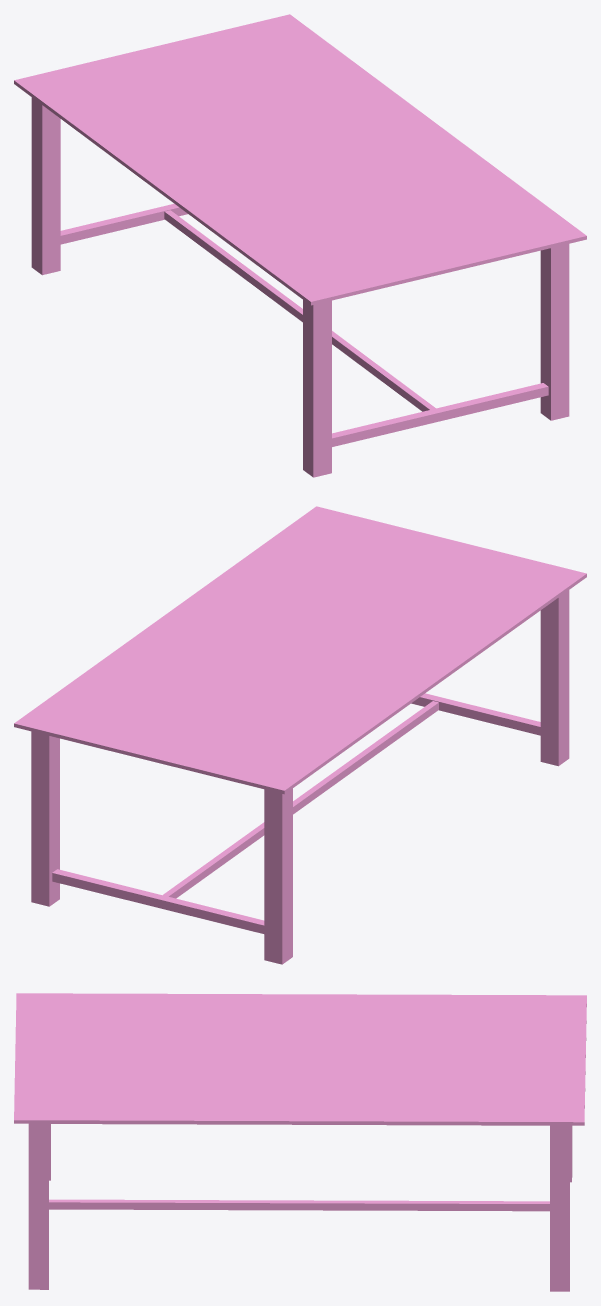
The model's file is table.fbx.
3 views of the same model, one above another, from view 1: azimuth 30°, elevation 25°; view 2: azimuth 150°, elevation 25°; view 3: azimuth 270°, elevation 25° (orthographic). The views are drawn at different scales.
Visible parts, largest first — view 1: Table_lowpoly.001; view 2: Table_lowpoly.001; view 3: Table_lowpoly.001.
Part boxes in pixels (x1,y1,x2,y2): Table_lowpoly.001: [14, 14, 586, 477]; Table_lowpoly.001: [14, 506, 586, 964]; Table_lowpoly.001: [14, 993, 586, 1291].
Bounding box in the file's own units: 27.07 × 17.05 × 50.86.
